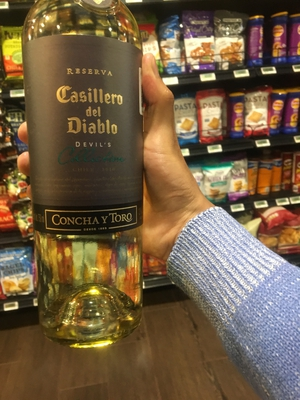casillero del diablo devils collection verde: (22, 14, 156, 340)
